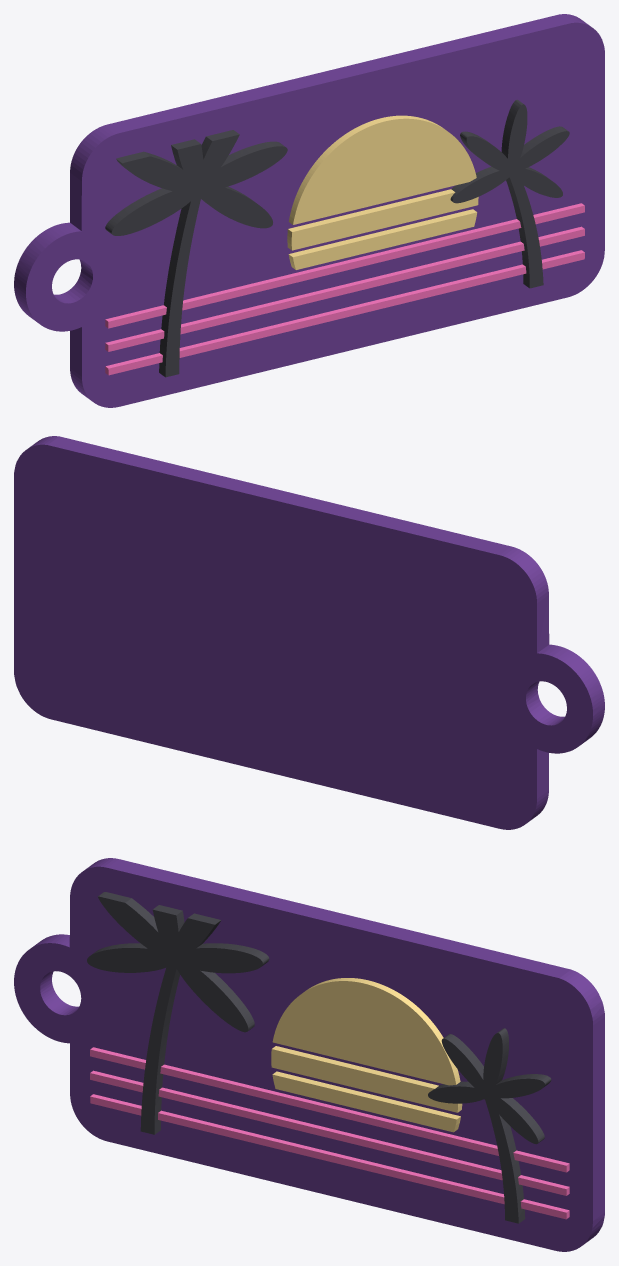
Rendered from llavero-atardecer.glb.
The picture shows the model from 3 angles, top to bottom: view 1: azimuth 30°, elevation 25°; view 2: azimuth 150°, elevation 25°; view 3: azimuth 330°, elevation 25°; orthographic projection.
Parts seen in each view (by area): view 1: morado, negro, dorado, rosa; view 2: morado; view 3: morado, negro, dorado, rosa.
Part boxes in pixels (<box>): morado: <box>14,14,604,407</box>; negro: <box>105,99,569,377</box>; dorado: <box>287,115,478,269</box>; rosa: <box>105,203,584,375</box>; morado: <box>14,436,604,829</box>; morado: <box>14,858,604,1251</box>; negro: <box>87,892,551,1223</box>; dorado: <box>271,978,462,1132</box>; rosa: <box>90,1047,569,1219</box>.
Bounding box in the file's own units: 62 × 28 × 3.4.
